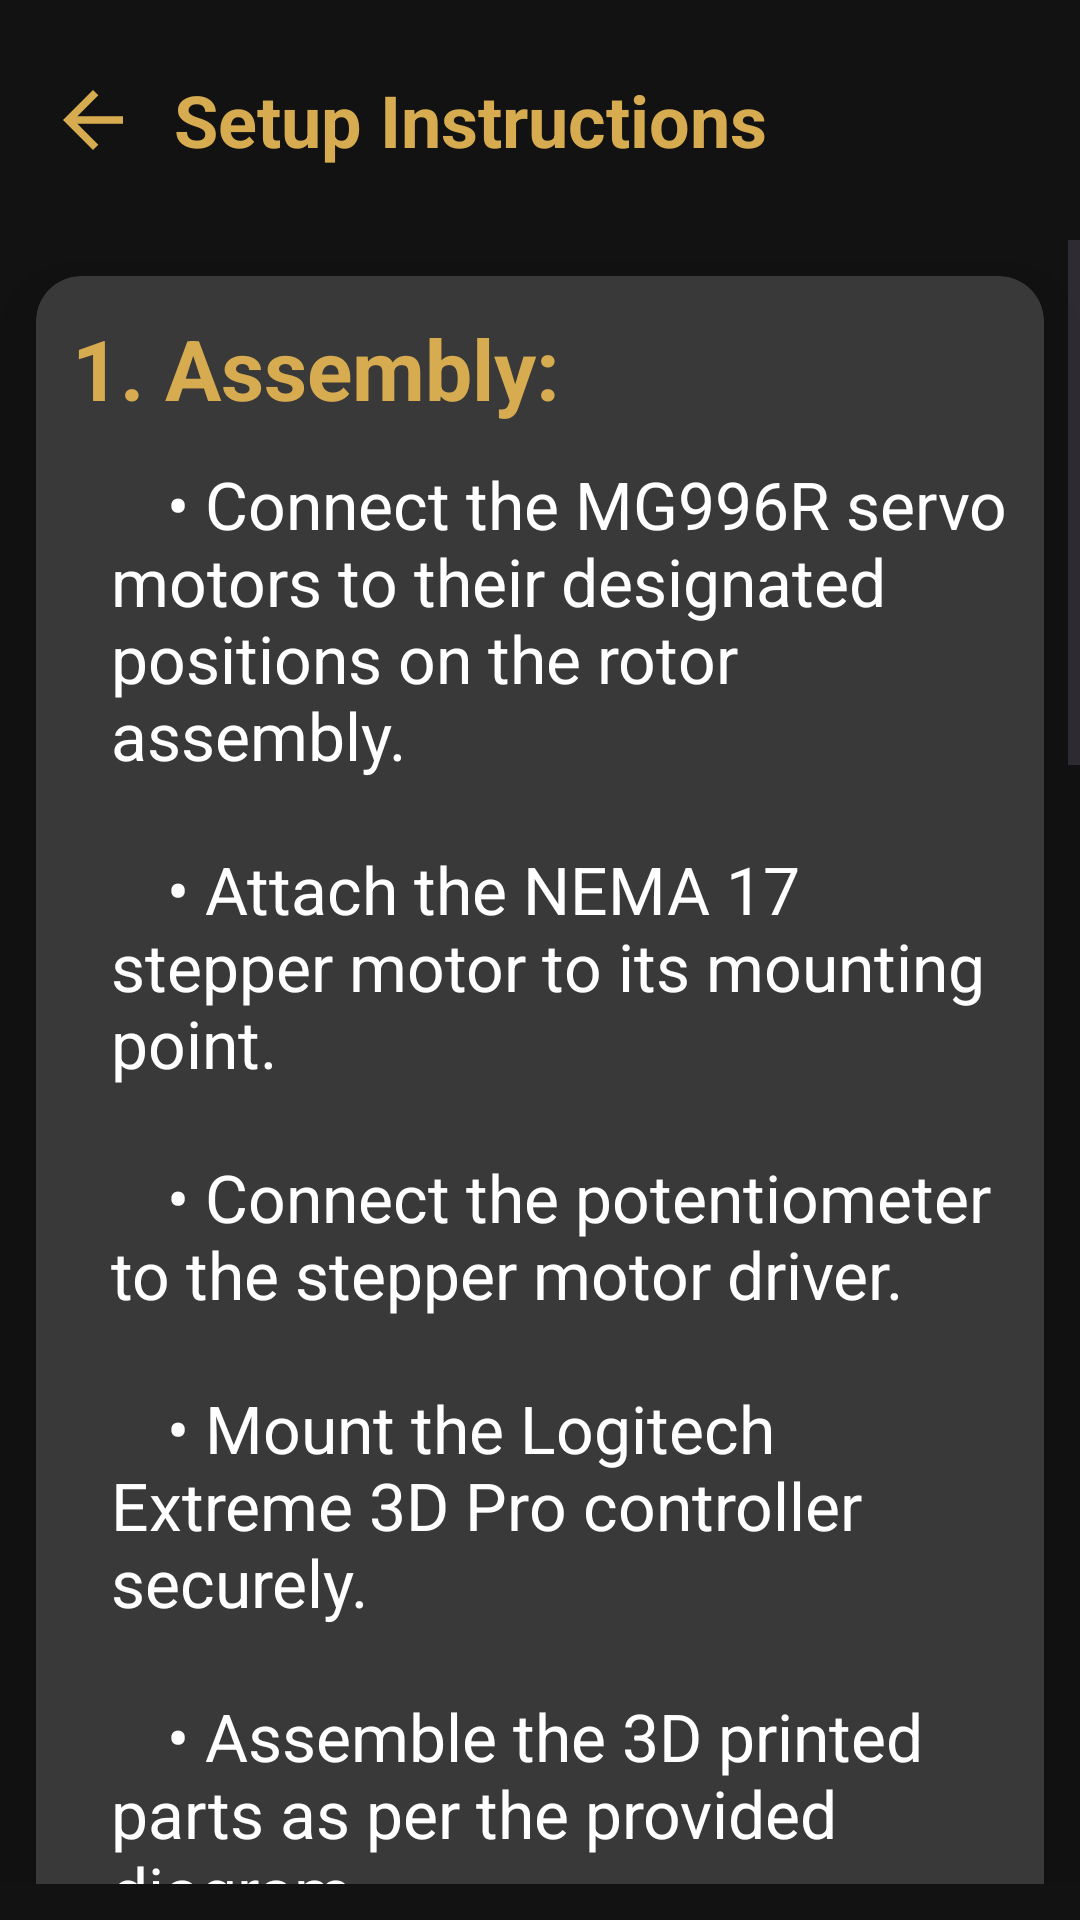

Screen size 1080 × 1920. Icon name, then its box in pixels as (x1, y1, x2, y2):
arrow back: (63, 90, 123, 150)
